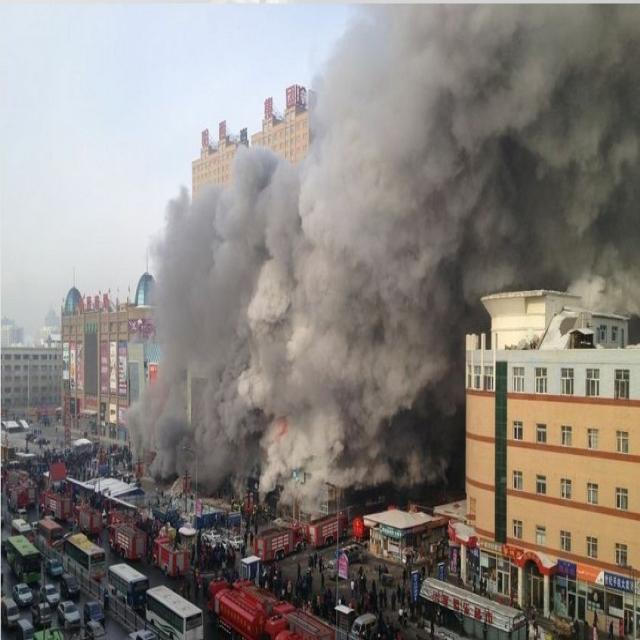Smoke: (120, 2, 640, 506)
